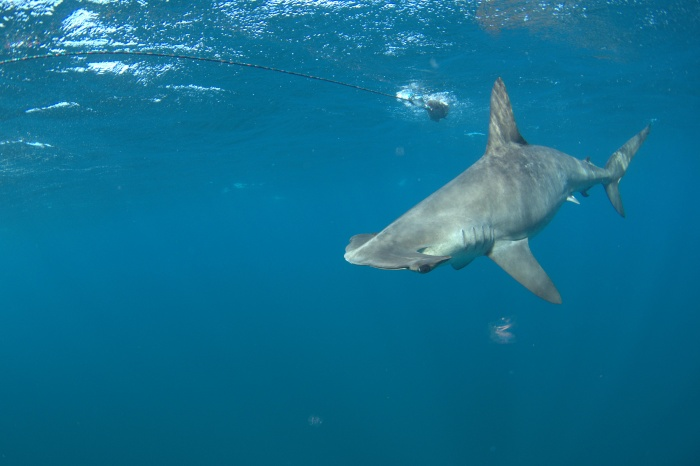Hammer: (327, 60, 676, 330)
